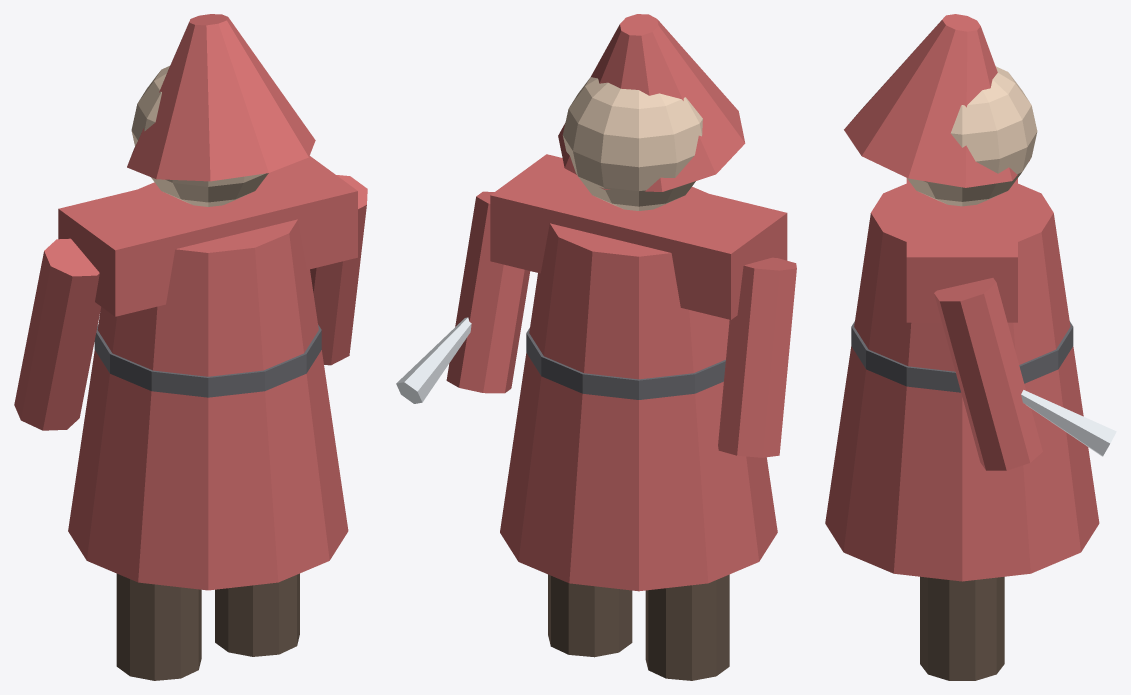
File: thief.glb
3 views of the same model, side by side, from view 1: azimuth 30°, elevation 25°; view 2: azimuth 150°, elevation 25°; view 3: azimuth 270°, elevation 25° (orthographic). The views are drawn at different scales.
Parts seen in each view (by area): view 1: Tunic, Shoulders, Hood, ArmL, BootL, BootR, Sash, ArmR, Head; view 2: Tunic, Shoulders, Head, ArmL, Hood, ArmR, BootL, BootR, Sash, Dagger; view 3: Tunic, Hood, ArmR, Shoulders, BootR, Head, Sash, Dagger.
Part boxes in pixels (x1,y1,x2,y2): Tunic: [68, 182, 348, 590]; Shoulders: [58, 156, 357, 316]; Hood: [127, 14, 315, 181]; ArmL: [14, 238, 100, 430]; BootL: [116, 574, 201, 680]; BootR: [215, 573, 299, 656]; Sash: [94, 324, 321, 397]; ArmR: [310, 175, 367, 365]; Head: [131, 66, 268, 206]; Tunic: [500, 186, 777, 591]; Shoulders: [490, 154, 787, 319]; Head: [562, 77, 702, 210]; ArmL: [718, 257, 796, 457]; Hood: [558, 14, 745, 191]; ArmR: [446, 191, 530, 393]; BootL: [645, 574, 729, 680]; BootR: [548, 574, 632, 657]; Sash: [526, 328, 725, 399]; Dagger: [396, 317, 471, 403]; Tunic: [825, 183, 1099, 581]; Hood: [844, 14, 1029, 187]; ArmR: [934, 278, 1042, 470]; Shoulders: [906, 178, 1017, 322]; BootR: [920, 576, 1004, 680]; Head: [907, 66, 1037, 206]; Sash: [851, 321, 1073, 392]; Dagger: [1021, 390, 1116, 456].
Bounding box in the file's own units: 1.16 × 2.1 × 0.8931.
